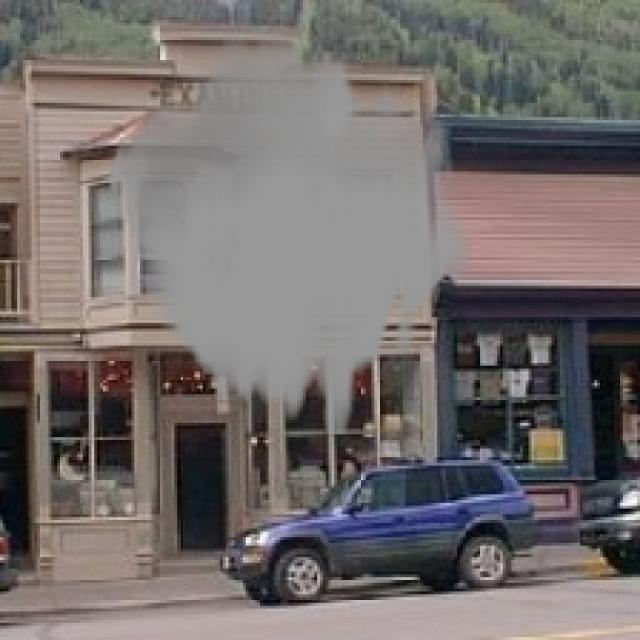smoke: (106, 29, 471, 434)
